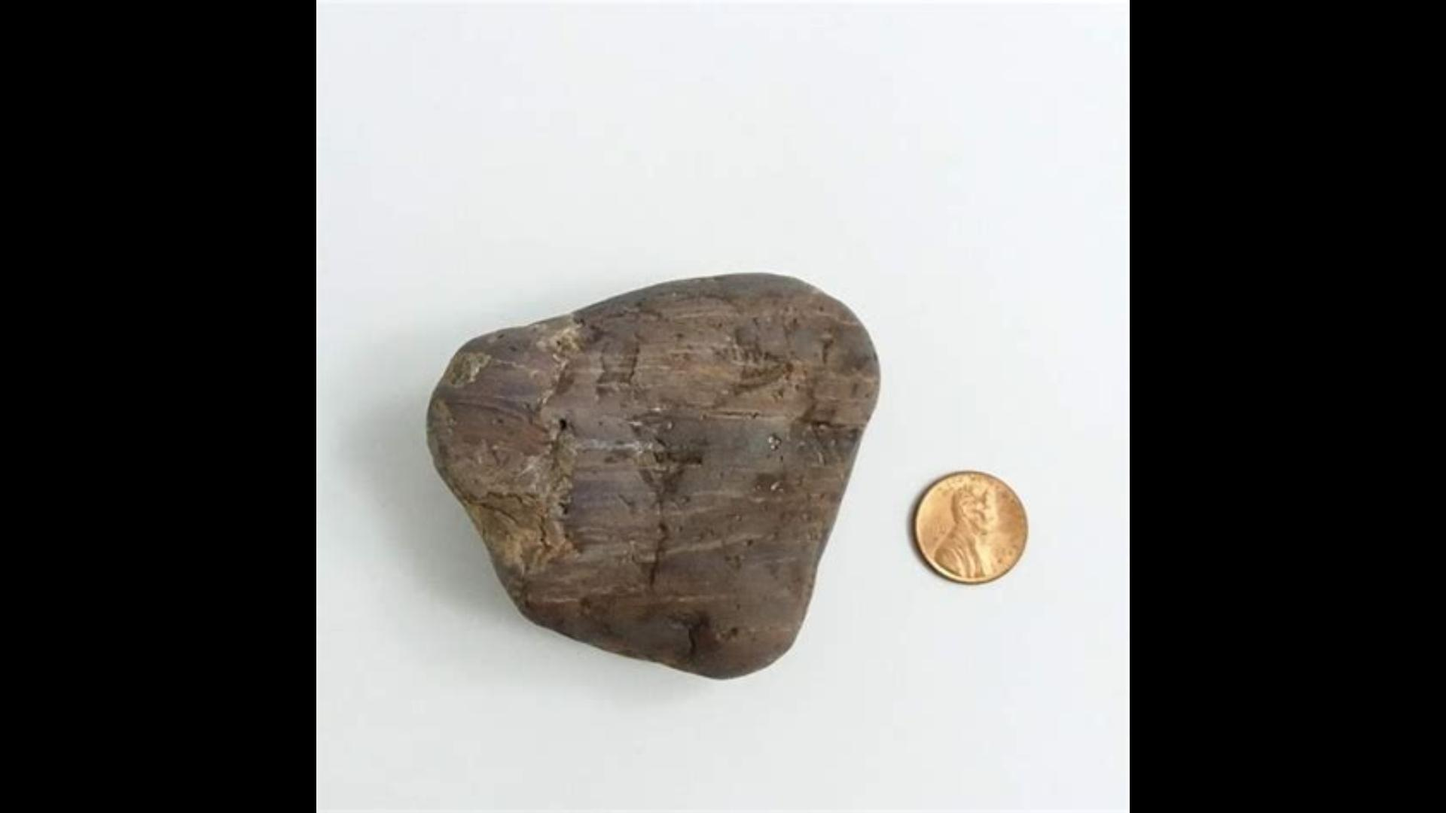rock: (428, 274, 877, 676)
